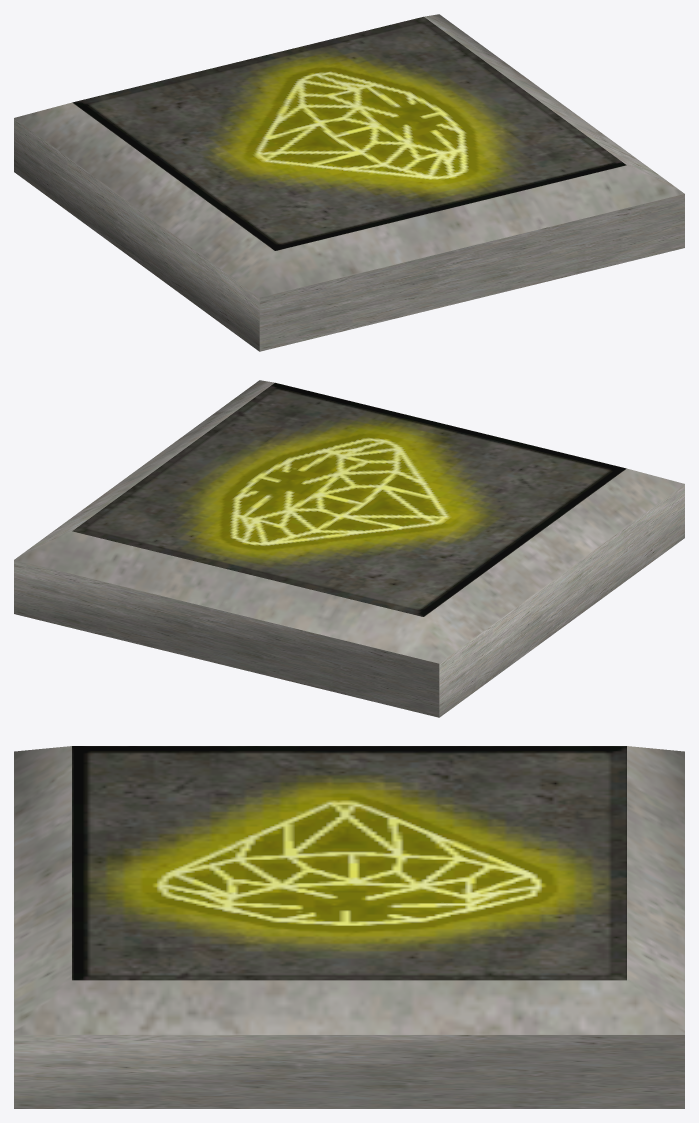
Rendered from FLOOR_RUIN_TREASURE_FLOOR_RUIN_TREASURE02.fbx.
3 renders of one model, top to bottom at view 1: azimuth 30°, elevation 25°; view 2: azimuth 150°, elevation 25°; view 3: azimuth 270°, elevation 25°, orthographic. The views are drawn at different scales.
Parts seen in each view (by area): view 1: FLOOR_RUIN_TREASURE_FLOOR_RUIN_TREASURE02; view 2: FLOOR_RUIN_TREASURE_FLOOR_RUIN_TREASURE02; view 3: FLOOR_RUIN_TREASURE_FLOOR_RUIN_TREASURE02.
Part boxes in pixels (left/top/right/bottom): FLOOR_RUIN_TREASURE_FLOOR_RUIN_TREASURE02: left=14, top=14, right=684, bottom=351; FLOOR_RUIN_TREASURE_FLOOR_RUIN_TREASURE02: left=14, top=380, right=684, bottom=717; FLOOR_RUIN_TREASURE_FLOOR_RUIN_TREASURE02: left=14, top=746, right=684, bottom=1108.
Bounding box in the file's own units: 15000 × 2565 × 15000.
2 materials, 2 textured.
